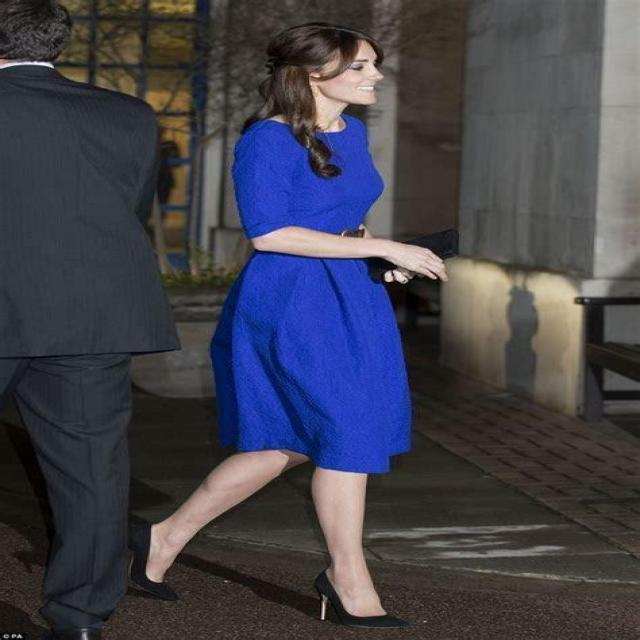dress: (209, 114, 415, 473)
